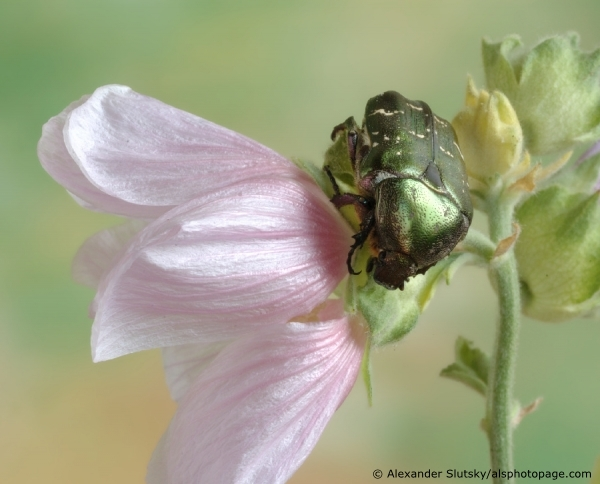Protaetia_metallica: (333, 78, 474, 289)
